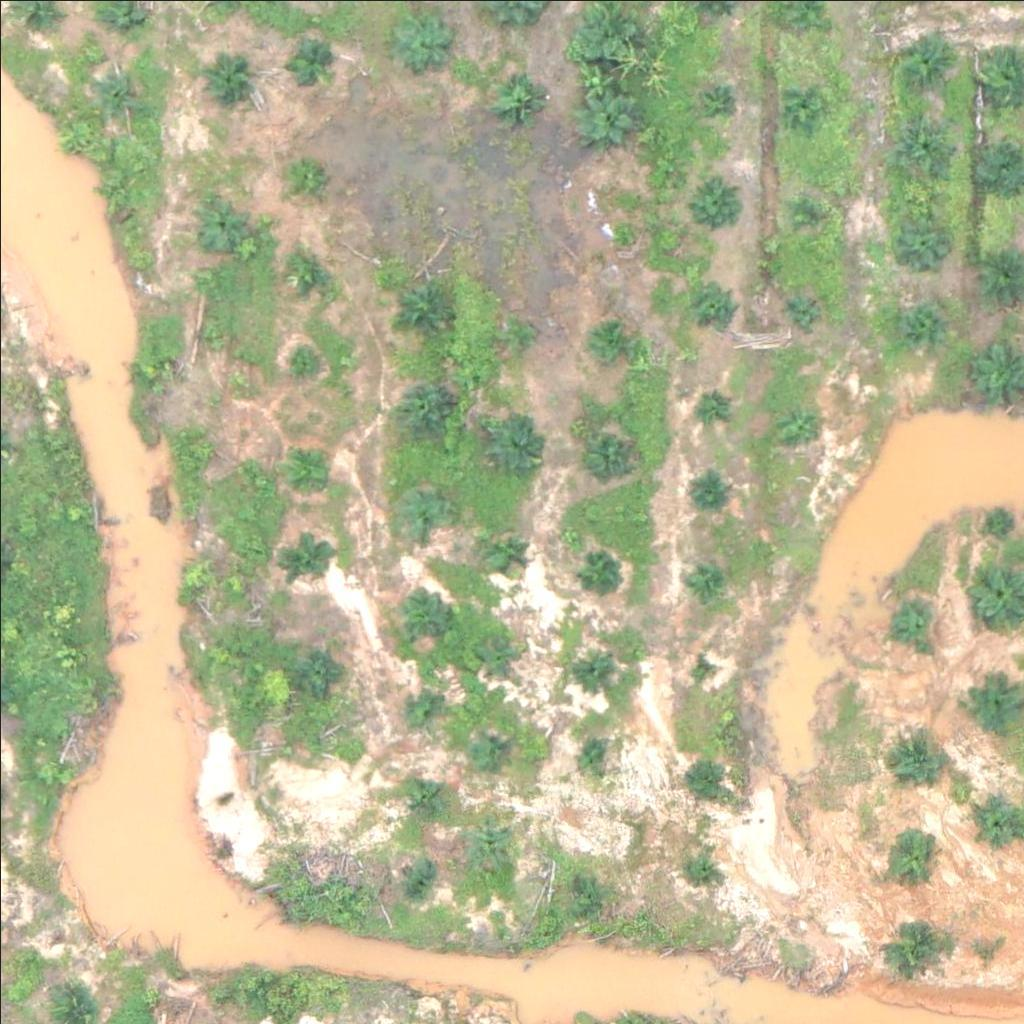Kelapa_Sawit: (486, 413, 549, 476), (488, 60, 551, 123), (389, 477, 452, 540), (574, 84, 637, 147), (391, 8, 453, 71), (890, 827, 940, 878), (890, 921, 940, 972), (395, 382, 445, 433), (396, 279, 446, 330), (690, 177, 740, 228), (285, 247, 335, 298), (583, 428, 633, 479), (571, 547, 621, 598), (887, 732, 937, 782), (973, 799, 1023, 849), (898, 118, 948, 168), (896, 36, 946, 86), (899, 221, 949, 271), (394, 592, 444, 642), (201, 60, 251, 110), (283, 35, 333, 85), (94, 65, 144, 115), (195, 196, 245, 246), (690, 76, 740, 126), (777, 80, 827, 130), (281, 528, 331, 578), (283, 438, 333, 488), (290, 643, 340, 693), (893, 593, 943, 643), (896, 298, 946, 348), (98, 170, 136, 208), (286, 159, 324, 197), (791, 193, 829, 231), (194, 318, 232, 356), (184, 431, 222, 469), (178, 556, 216, 594), (980, 504, 1018, 542), (680, 852, 718, 890), (686, 466, 724, 504), (692, 386, 730, 424), (568, 738, 606, 776), (400, 696, 438, 734), (400, 783, 438, 821), (401, 858, 439, 896), (592, 322, 630, 360), (131, 356, 168, 394), (690, 758, 728, 795), (681, 642, 719, 679), (684, 558, 722, 595), (572, 655, 610, 692), (558, 858, 595, 896), (473, 821, 510, 859), (468, 729, 505, 767), (478, 633, 515, 671), (780, 409, 817, 447), (497, 316, 534, 354), (696, 290, 733, 328), (788, 292, 825, 330), (285, 338, 322, 375), (487, 530, 524, 567)
